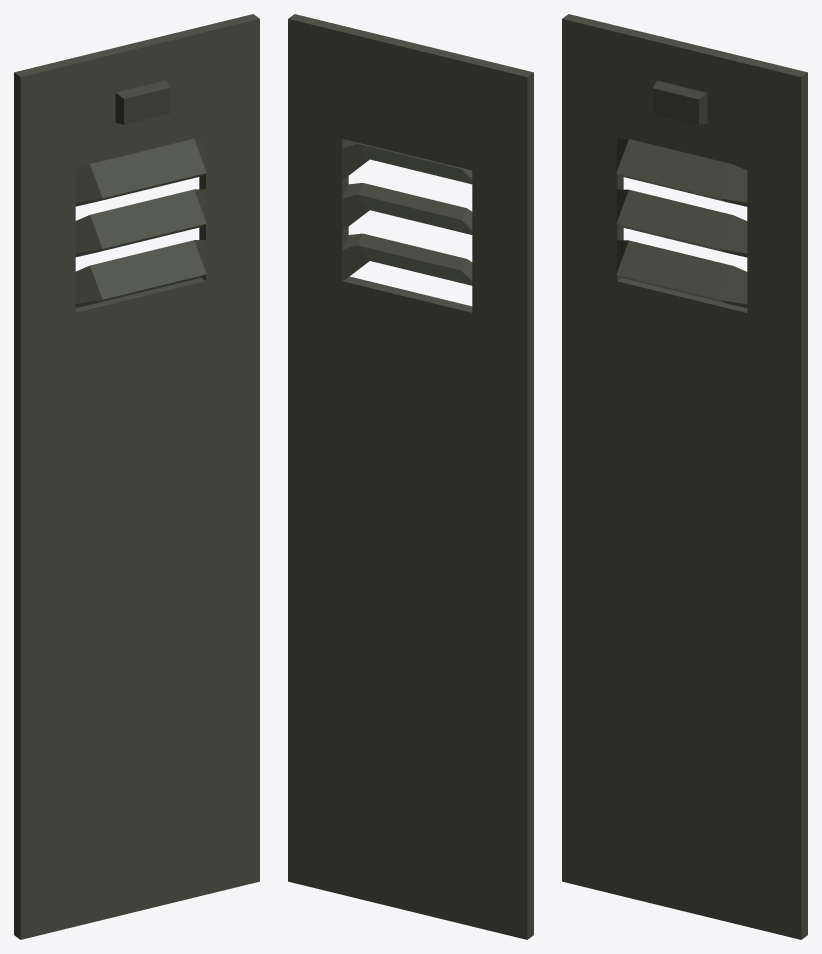
Rendered from SM_Prop_Lockers_Door_02.glb.
3 renders of one model, left to right at view 1: azimuth 30°, elevation 25°; view 2: azimuth 150°, elevation 25°; view 3: azimuth 330°, elevation 25°, orthographic.
Visible parts, largest first — view 1: SM_Prop_Lockers_Door_02; view 2: SM_Prop_Lockers_Door_02; view 3: SM_Prop_Lockers_Door_02.
Part boxes in pixels (box(x1,y1,x2,y2)): SM_Prop_Lockers_Door_02: box(14, 14, 259, 939); SM_Prop_Lockers_Door_02: box(288, 14, 533, 939); SM_Prop_Lockers_Door_02: box(562, 14, 807, 939).
Bounding box in the file's own units: 0.3937 × 1.36 × 0.0583.
Materials: 1 (1 with a texture image).
